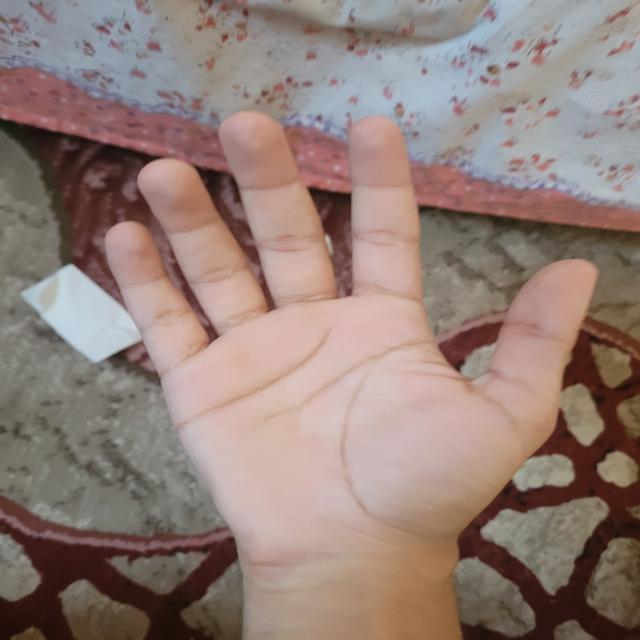Open Hand: (100, 110, 602, 564)
